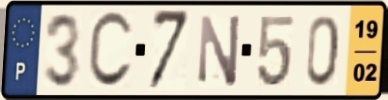0: (304, 14, 342, 88)
3: (43, 10, 85, 90)
5: (254, 13, 297, 89)
7: (145, 7, 192, 94)
C: (86, 9, 136, 92)
N: (197, 12, 244, 89)
